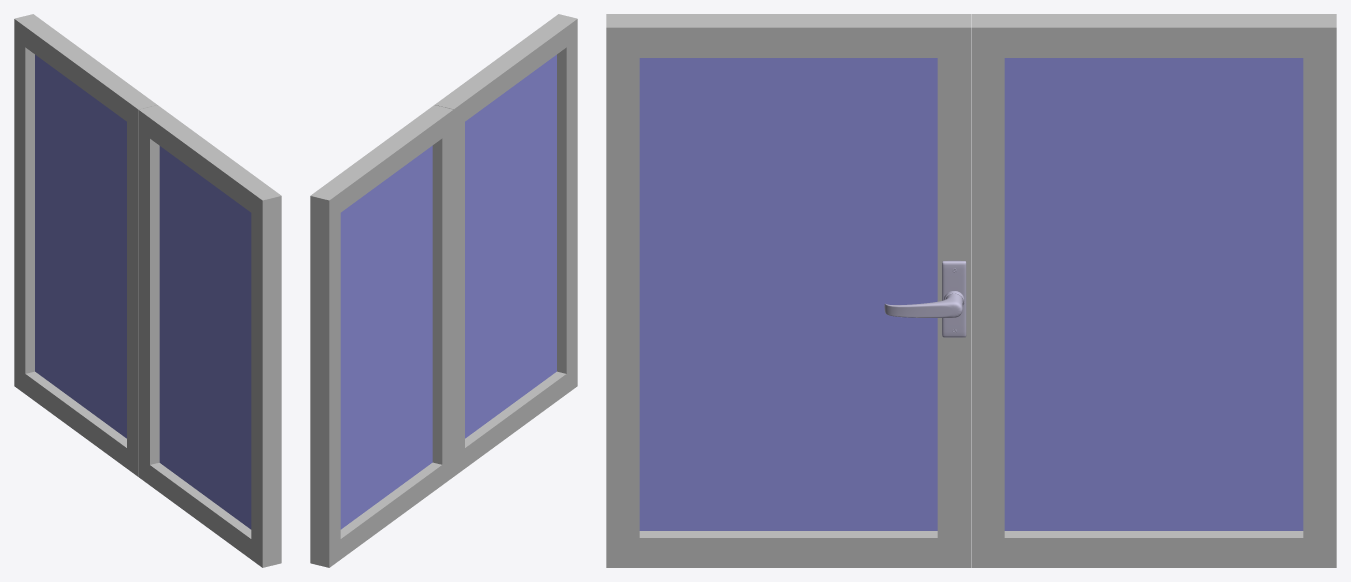
Rendered from windowGlass.fbx.
The picture shows the model from 3 angles, left to right: view 1: azimuth 30°, elevation 25°; view 2: azimuth 150°, elevation 25°; view 3: azimuth 270°, elevation 25°; orthographic projection. The views are drawn at different scales.
Parts seen in each view (by area): view 1: Window.R, Window.L; view 2: Window.L, Window.R; view 3: Window.L, Window.R, Handle.
Part boxes in pixels (x1,y1,x2,y2): Window.R: (138, 105, 281, 567); Window.L: (14, 14, 157, 476); Window.L: (310, 105, 453, 567); Window.R: (435, 14, 577, 476); Window.L: (971, 14, 1336, 567); Window.R: (606, 14, 970, 567); Handle: (884, 260, 966, 337).
Bounding box in the file's own units: 95.88 × 880 × 1079.
